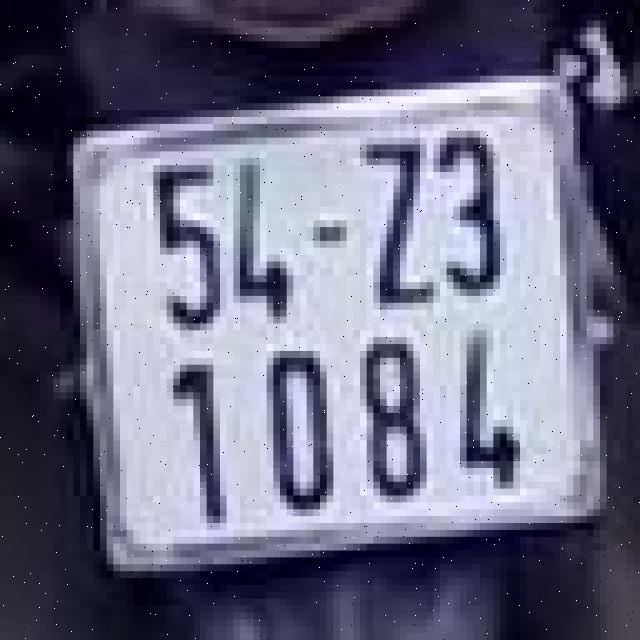0: (253, 340, 340, 512)
1: (167, 354, 240, 534)
3: (434, 124, 514, 310)
4: (453, 327, 540, 492), (224, 155, 304, 334)
5: (137, 165, 230, 344)
8: (357, 330, 443, 502)
Z: (343, 138, 437, 316)
